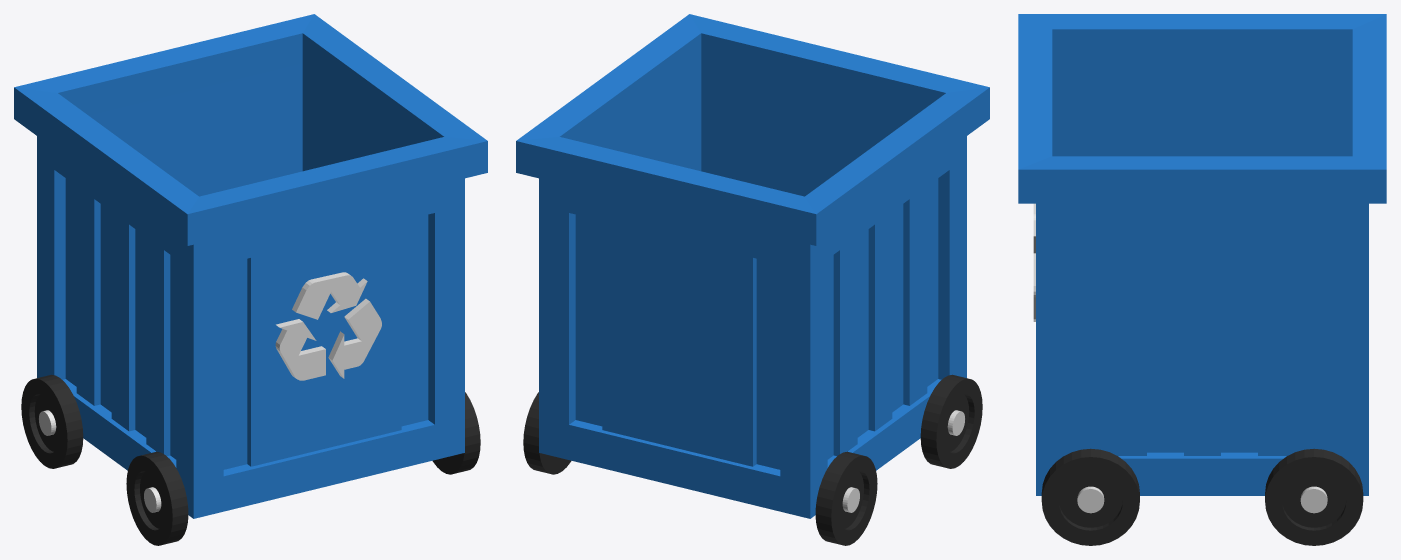
File: BlueBin.fbx
3 renders of one model, left to right at view 1: azimuth 30°, elevation 25°; view 2: azimuth 150°, elevation 25°; view 3: azimuth 270°, elevation 25°, orthographic. The views are drawn at different scales.
Parts seen in each view (by area): view 1: Trashcan cube, Wheels, Recycle logo; view 2: Trashcan cube, Wheels; view 3: Trashcan cube, Wheels.
Boxes of the visible parts, x1,y1,x2,y2 form: Trashcan cube: (14,14,487,518); Wheels: (21,374,480,545); Recycle logo: (275,272,381,380); Trashcan cube: (516,14,989,518); Wheels: (523,374,982,545); Trashcan cube: (1018,14,1386,495); Wheels: (1041,448,1363,545).
Bounding box in the file's own units: 205 × 224 × 200.
